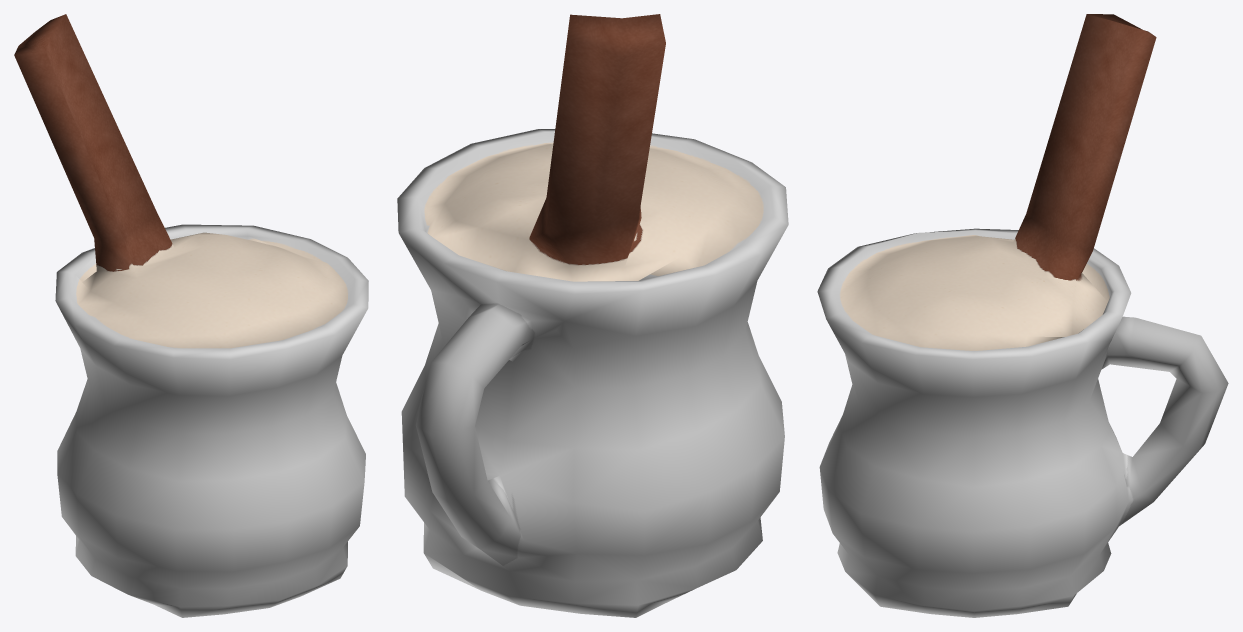
Rendered from EggNog.fbx.
3 renders of one model, left to right at view 1: azimuth 30°, elevation 25°; view 2: azimuth 150°, elevation 25°; view 3: azimuth 270°, elevation 25°, orthographic. The views are drawn at different scales.
Parts seen in each view (by area): view 1: EggnogShell; view 2: EggnogShell; view 3: EggnogShell.
Part boxes in pixels (x1,y1,x2,y2): EggnogShell: (14, 14, 368, 617); EggnogShell: (397, 14, 788, 617); EggnogShell: (817, 14, 1228, 617).
Bounding box in the file's own units: 1.38 × 2.47 × 1.8.
1 material, 1 textured.
